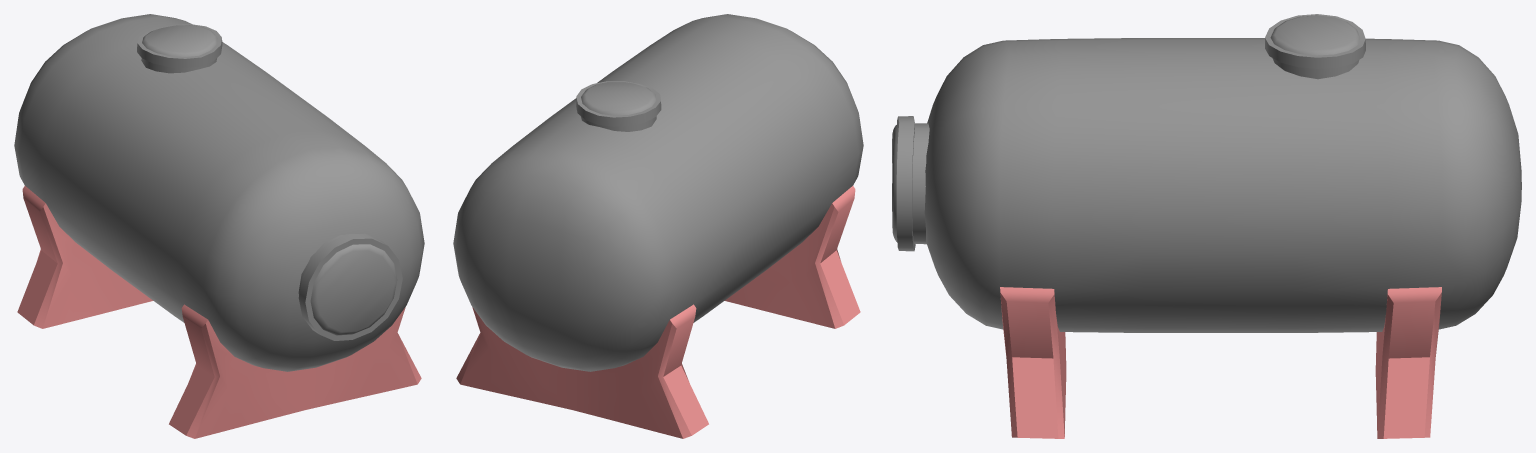
Rendered from PropaneContainer.fbx.
3 views of the same model, side by side, from view 1: azimuth 30°, elevation 25°; view 2: azimuth 150°, elevation 25°; view 3: azimuth 270°, elevation 25° (orthographic). The views are drawn at different scales.
Parts seen in each view (by area): view 1: SM_PropaneContainer; view 2: SM_PropaneContainer; view 3: SM_PropaneContainer.
Part boxes in pixels (x1,y1,x2,y2): SM_PropaneContainer: (14,14,424,438); SM_PropaneContainer: (453,14,863,438); SM_PropaneContainer: (892,14,1521,438).
Size of the model in its own units: 193 by 221 by 370.
